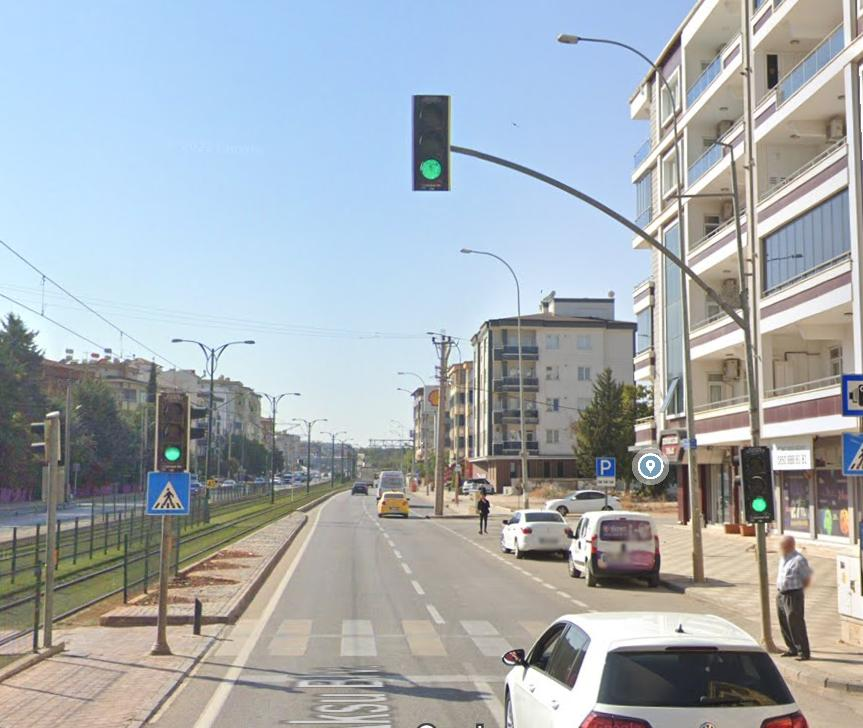greenlight: (413, 93, 454, 190), (154, 388, 191, 474), (740, 450, 773, 518)
